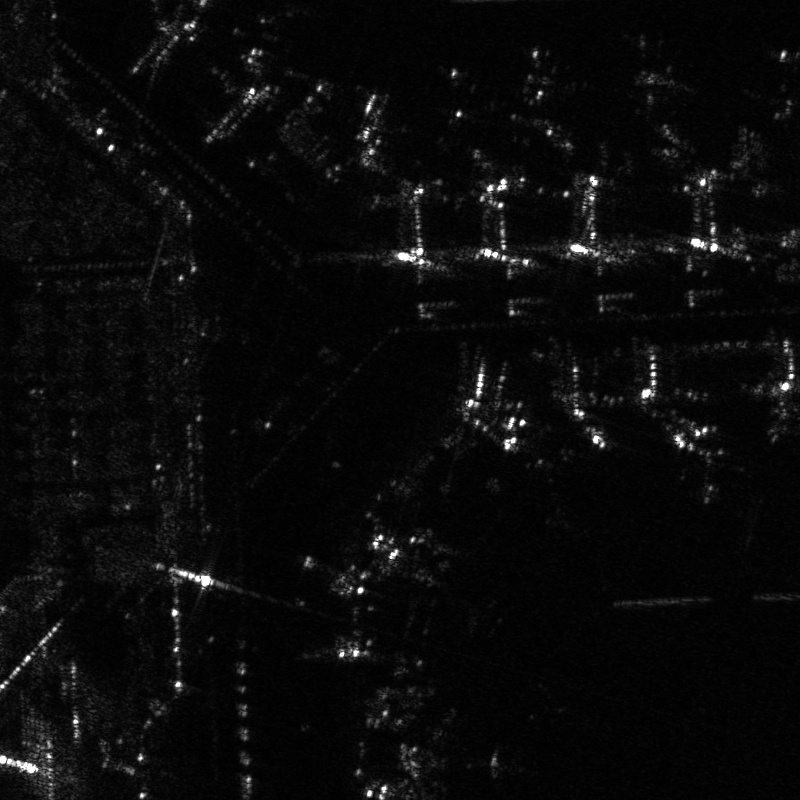A220: (416, 55, 509, 130)
A320/321: (343, 699, 518, 799), (600, 28, 700, 110)
A330: (384, 529, 517, 637)
Boeing787: (670, 413, 752, 519)
other: (487, 38, 599, 111), (521, 450, 603, 536)
